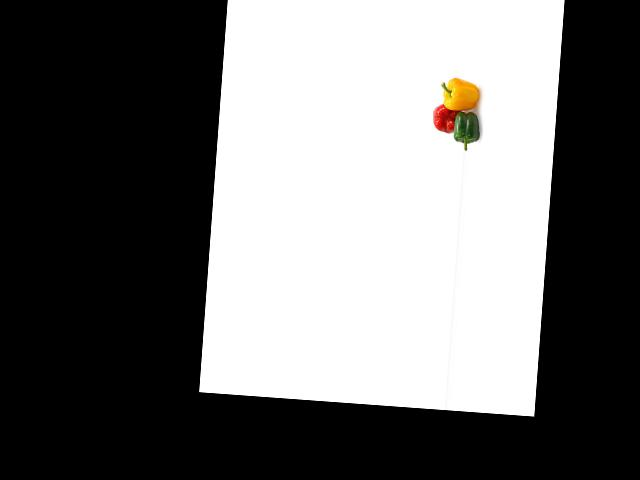bell_pepper: (449, 103, 481, 148)
